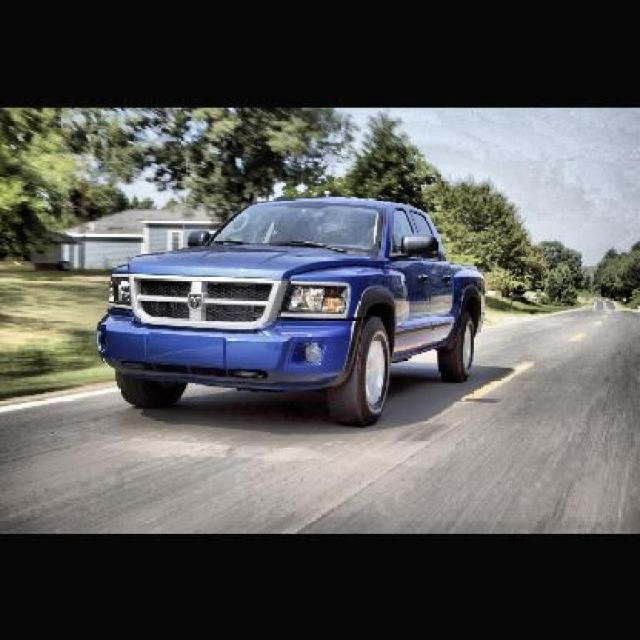blue: (101, 195, 481, 427)
